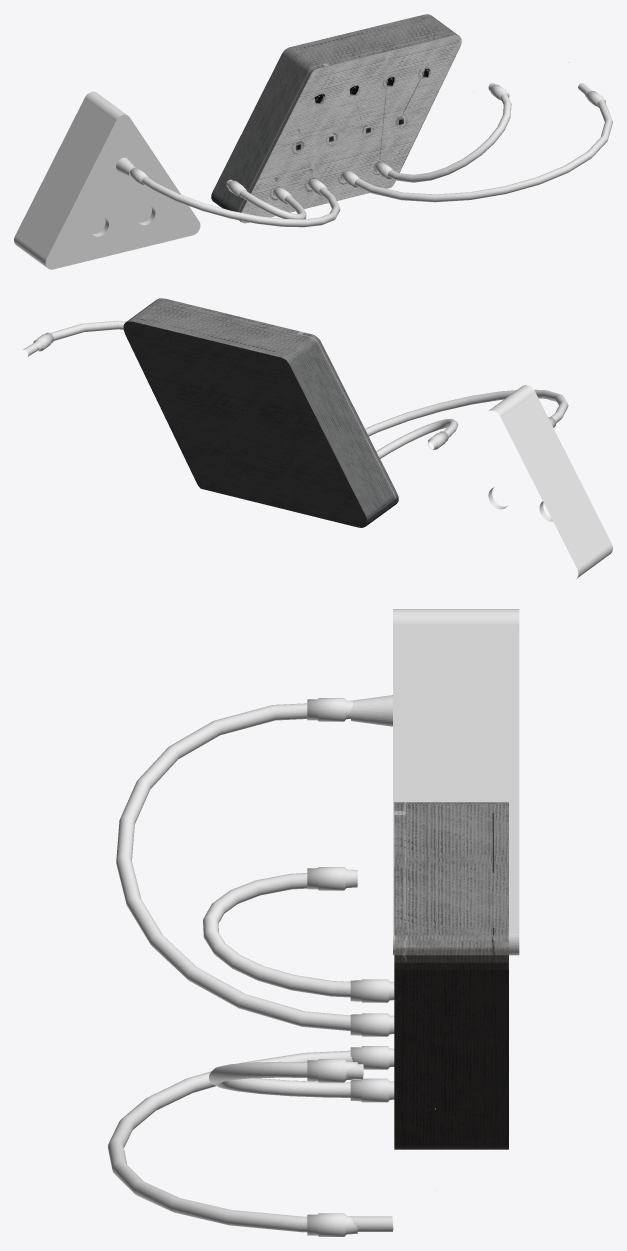
File: sheet_positions.gltf
The picture shows the model from 3 angles, top to bottom: view 1: azimuth 30°, elevation 25°; view 2: azimuth 150°, elevation 25°; view 3: azimuth 270°, elevation 25°; orthographic projection. The views are drawn at different scales.
Parts seen in each view (by area): view 1: mixer_position, TO_position1, bezier4, bezier1, bezier3, bezier2; view 2: mixer_position, TO_position1, bezier1, bezier2, bezier4; view 3: mixer_position, TO_position1, bezier1, bezier4, bezier2, bezier3.
Boxes of the visible parts, bbox=[...] form: mixer_position: bbox=[211, 14, 461, 223]; TO_position1: bbox=[14, 91, 200, 269]; bezier4: bbox=[342, 83, 612, 202]; bezier1: bbox=[129, 167, 340, 227]; bezier3: bbox=[375, 83, 511, 182]; bezier2: bbox=[226, 179, 306, 219]; mixer_position: bbox=[123, 298, 398, 527]; TO_position1: bbox=[488, 385, 612, 578]; bezier1: bbox=[365, 389, 568, 436]; bezier2: bbox=[376, 418, 458, 458]; bezier4: bbox=[23, 320, 126, 356]; mixer_position: bbox=[394, 802, 508, 1149]; TO_position1: bbox=[351, 609, 519, 955]; bezier1: bbox=[116, 698, 394, 1036]; bezier4: bbox=[107, 1046, 394, 1236]; bezier2: bbox=[203, 867, 394, 1002]; bezier3: bbox=[209, 1059, 394, 1102].
Size of the model in its own units: 1.57 by 0.3853 by 0.5177.
Materials: 1 (1 with a texture image).
